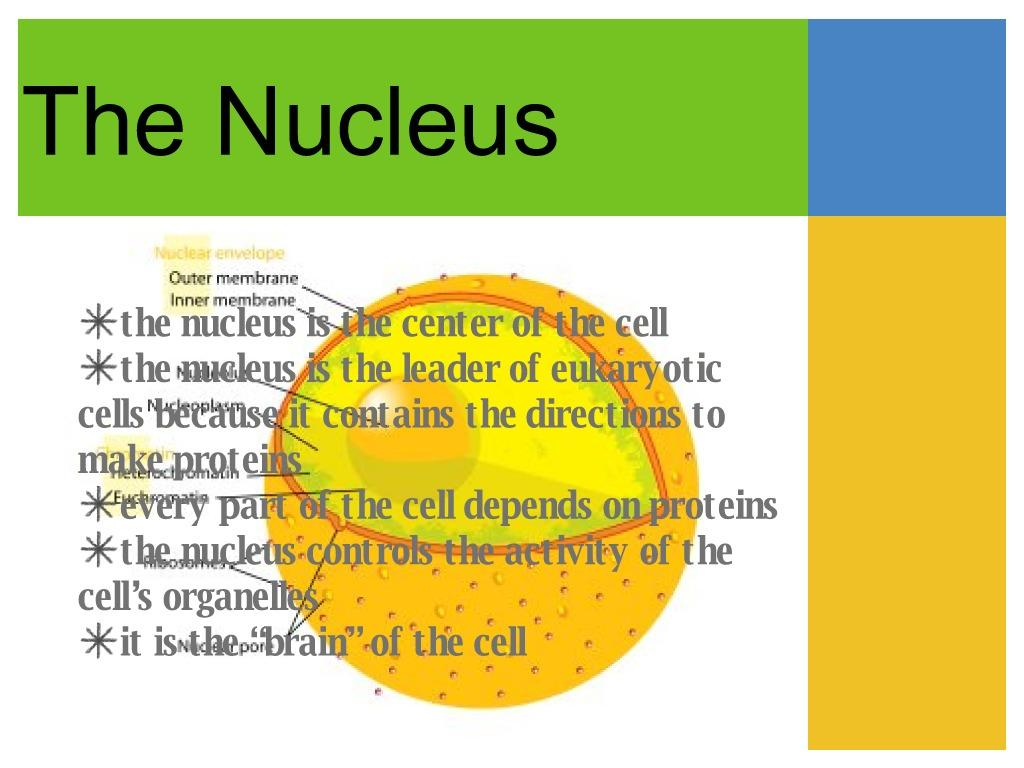paragraph: (56, 245, 793, 721)
title: (15, 73, 566, 178)
